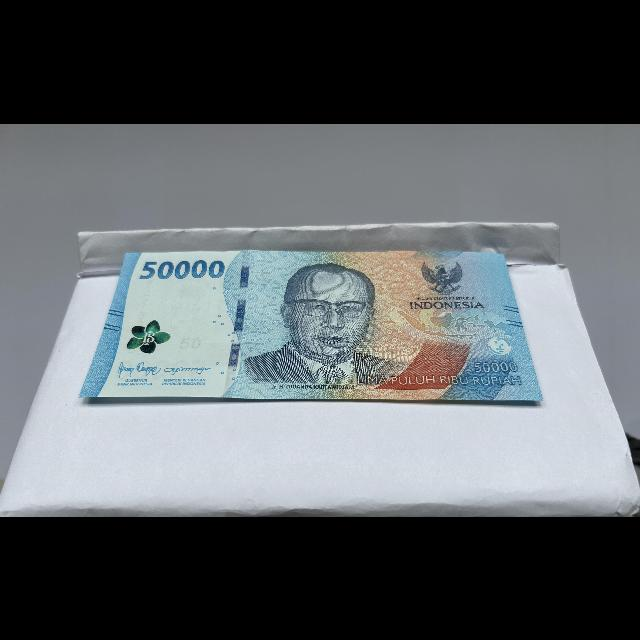Asli-50k: (73, 248, 546, 404)
Tinta-Asli-50k: (119, 303, 179, 365)
